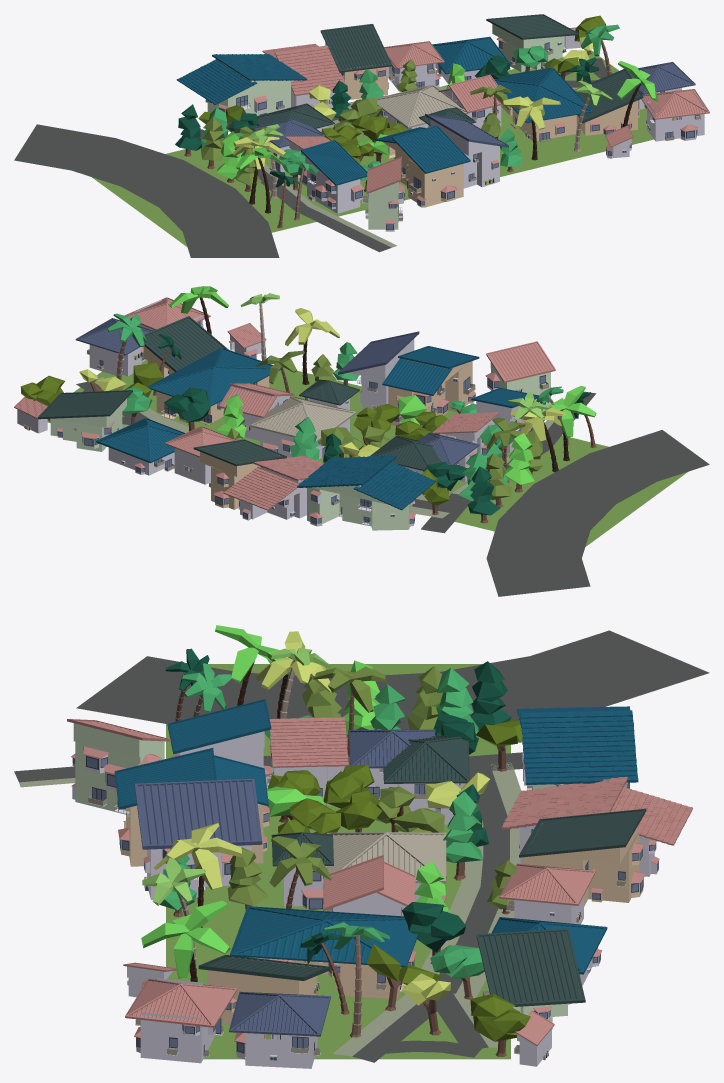
The model's file is QC_Env4.fbx.
3 views of the same model, one above another, from view 1: azimuth 30°, elevation 25°; view 2: azimuth 150°, elevation 25°; view 3: azimuth 270°, elevation 25° (orthographic). The views are drawn at different scales.
Parts seen in each view (by area): view 1: QC_Env4; view 2: QC_Env4; view 3: QC_Env4.
Boxes of the visible parts, x1=… form: QC_Env4: x1=14, y1=14, x2=709, y2=257; QC_Env4: x1=14, y1=286, x2=709, y2=596; QC_Env4: x1=14, y1=625, x2=709, y2=1068.
Bounding box in the file's own units: 9016 × 1092 × 5951.
